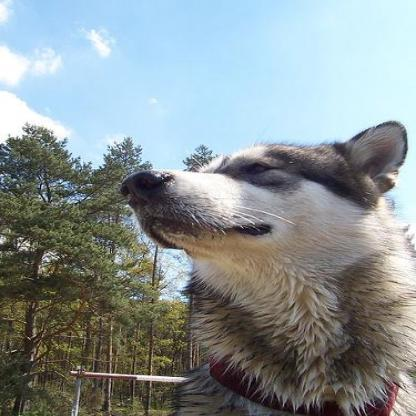malamute: (115, 116, 413, 413)
